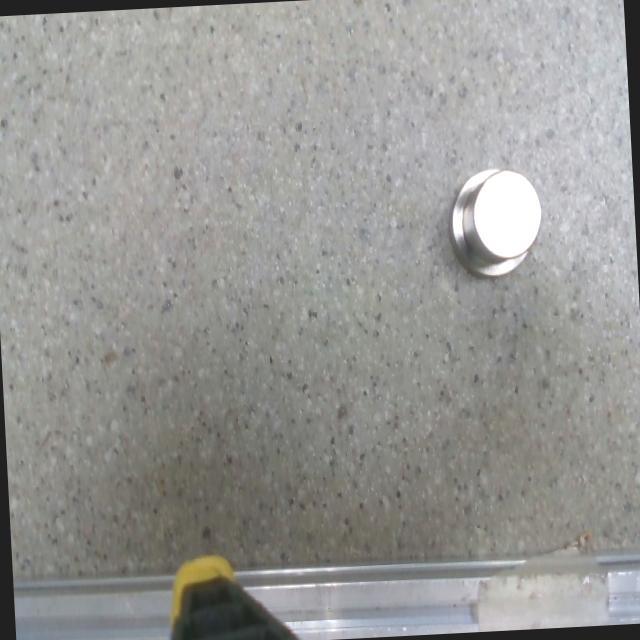sensor: (446, 164, 546, 282)
